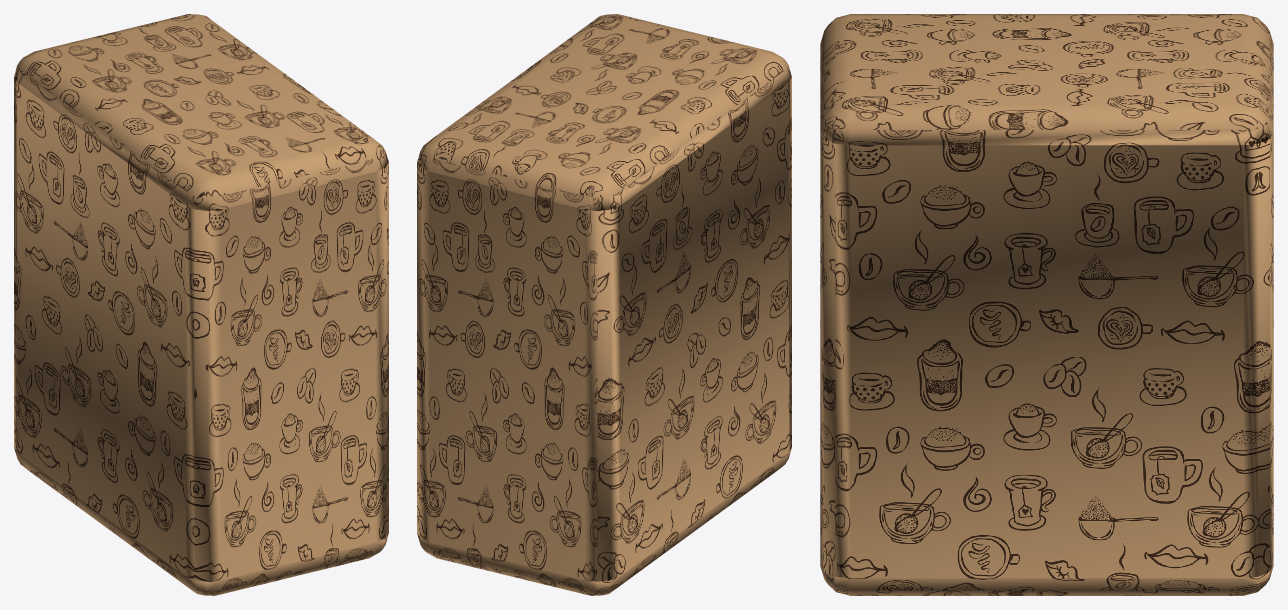
The model's file is Boxed_goods_2.fbx.
3 views of the same model, side by side, from view 1: azimuth 30°, elevation 25°; view 2: azimuth 150°, elevation 25°; view 3: azimuth 270°, elevation 25° (orthographic). The views are drawn at different scales.
Visible parts, largest first — view 1: Boxed_goods_2; view 2: Boxed_goods_2; view 3: Boxed_goods_2.
Boxes of the visible parts, x1,y1,x2,y2 form: Boxed_goods_2: (14, 14, 388, 595); Boxed_goods_2: (417, 14, 791, 595); Boxed_goods_2: (820, 14, 1273, 595).
Bounding box in the file's own units: 6.29 × 12.57 × 10.58.
